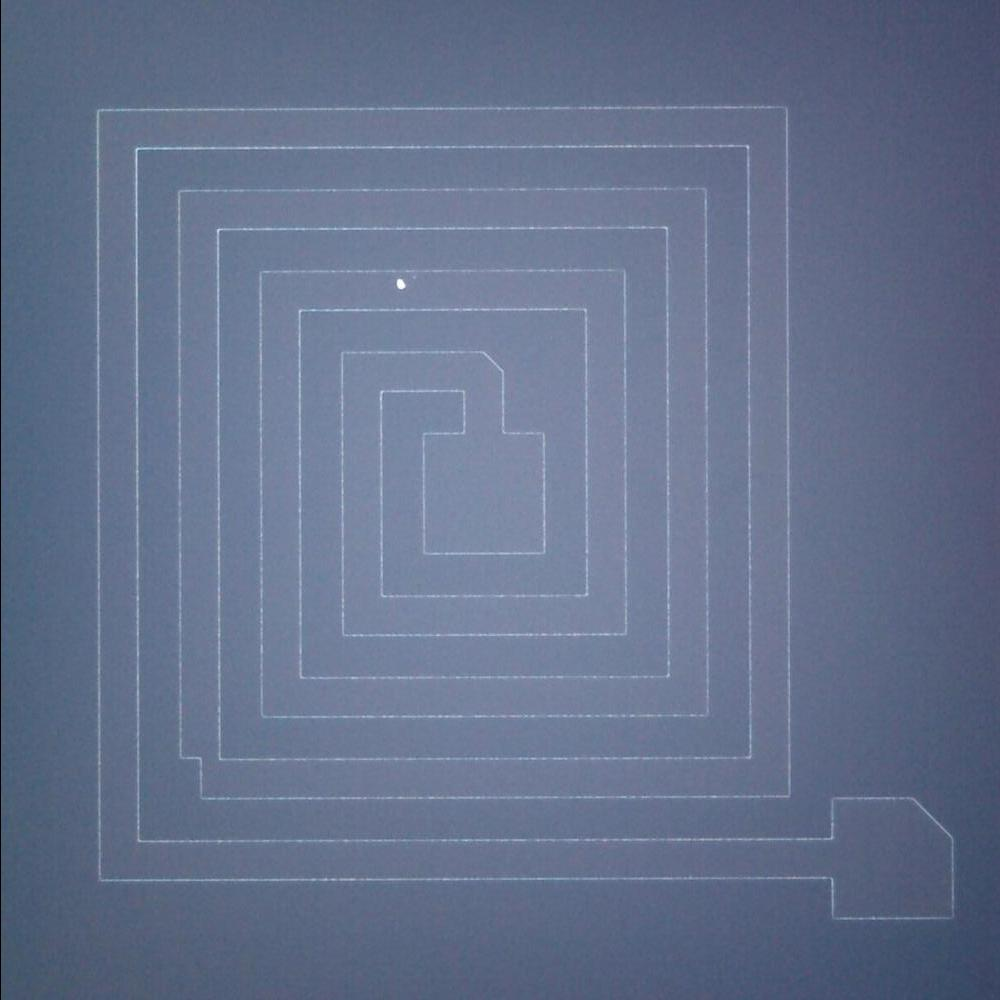edge circuit: (907, 786, 963, 846), (169, 744, 210, 802), (468, 337, 514, 387)
spot: (388, 274, 409, 294)
